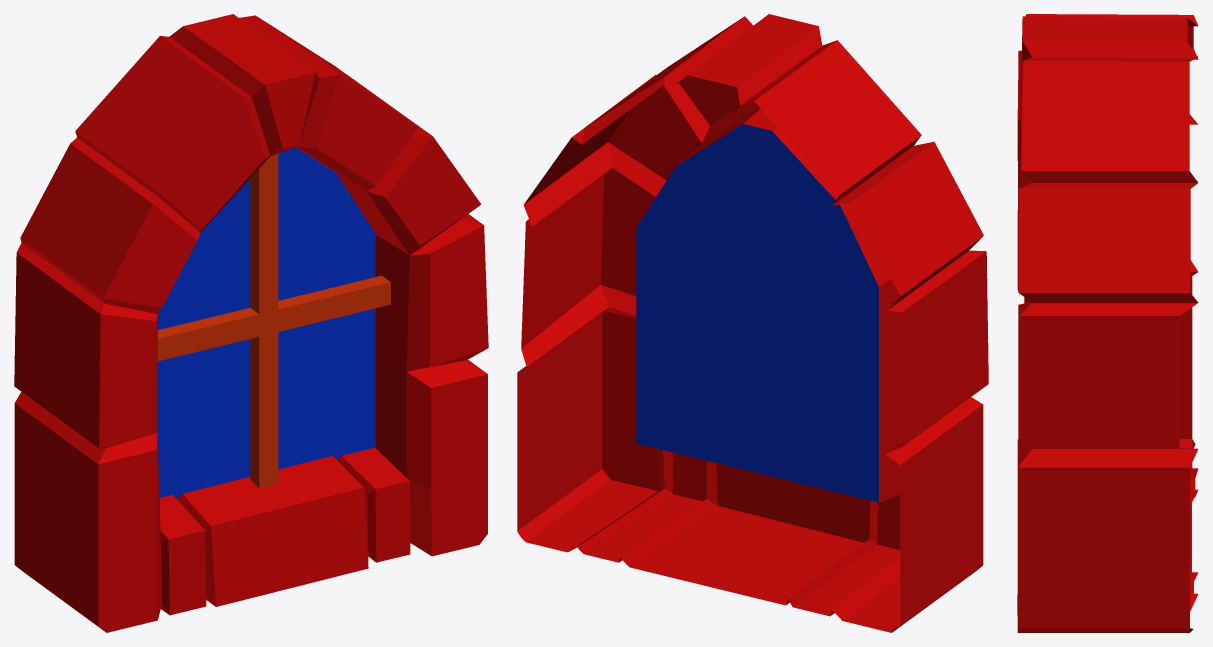
The model's file is TowerWindow_02.fbx.
The picture shows the model from 3 angles, left to right: view 1: azimuth 30°, elevation 25°; view 2: azimuth 150°, elevation 25°; view 3: azimuth 270°, elevation 25°; orthographic projection.
Visible parts, largest first — view 1: TowerWindow_02; view 2: TowerWindow_02; view 3: TowerWindow_02.
Part boxes in pixels (x1=…): TowerWindow_02: x1=14, y1=14, x2=488, y2=632; TowerWindow_02: x1=517, y1=14, x2=988, y2=632; TowerWindow_02: x1=1017, y1=14, x2=1198, y2=632.
Size of the model in its own units: 137 by 172 by 54.96.
